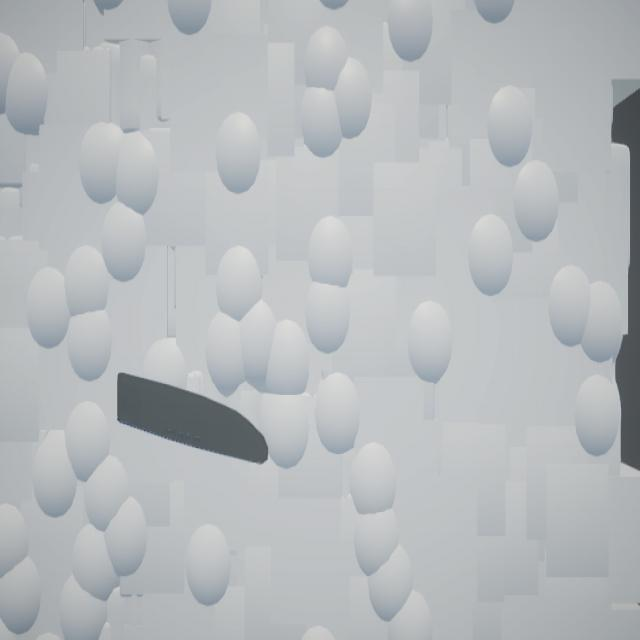top_knife: (118, 373, 270, 466)
